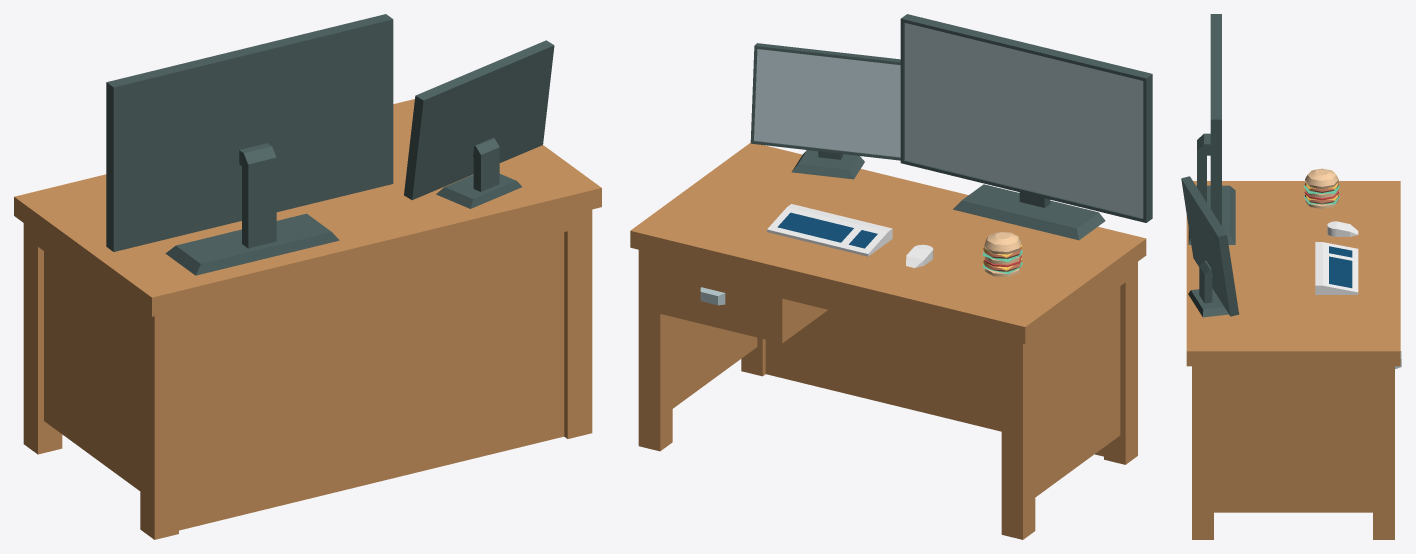
3 renders of one model, left to right at view 1: azimuth 30°, elevation 25°; view 2: azimuth 150°, elevation 25°; view 3: azimuth 270°, elevation 25°, orthographic. The views are drawn at different scales.
Parts seen in each view (by area): view 1: mergedBlocks(Clone); view 2: mergedBlocks(Clone); view 3: mergedBlocks(Clone).
Boxes of the visible parts, bbox=[...] form: mergedBlocks(Clone): bbox=[14, 14, 601, 539]; mergedBlocks(Clone): bbox=[630, 14, 1152, 539]; mergedBlocks(Clone): bbox=[1181, 14, 1401, 539].
Bounding box in the file's own units: 1.16 × 1.05 × 0.6033.
